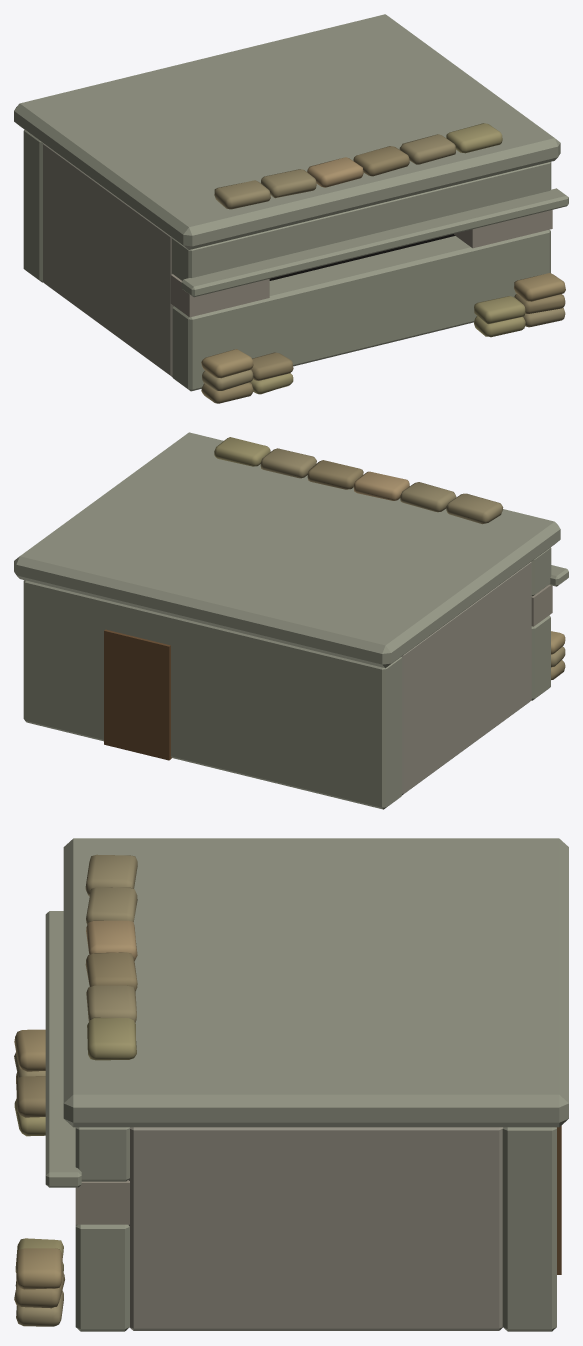
The model's file is bunker.glb.
The picture shows the model from 3 angles, top to bottom: view 1: azimuth 30°, elevation 25°; view 2: azimuth 150°, elevation 25°; view 3: azimuth 270°, elevation 25°; orthographic projection. The views are drawn at different scales.
Parts seen in each view (by area): view 1: bunker; view 2: bunker; view 3: bunker.
Boxes of the visible parts, box(x1,y1,x2,y2) form: bunker: box(14, 14, 568, 403); bunker: box(14, 432, 568, 809); bunker: box(14, 838, 568, 1331).
Size of the model in its own units: 5.2 by 2.37 by 4.61.
